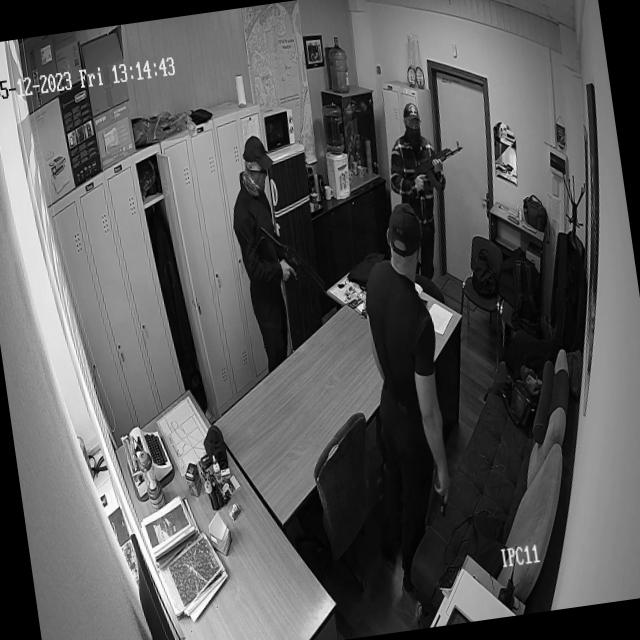gun: (252, 215, 328, 302), (402, 140, 469, 192), (429, 463, 452, 517)
person with a gun: (352, 206, 452, 527), (225, 135, 300, 360), (382, 102, 446, 279)
